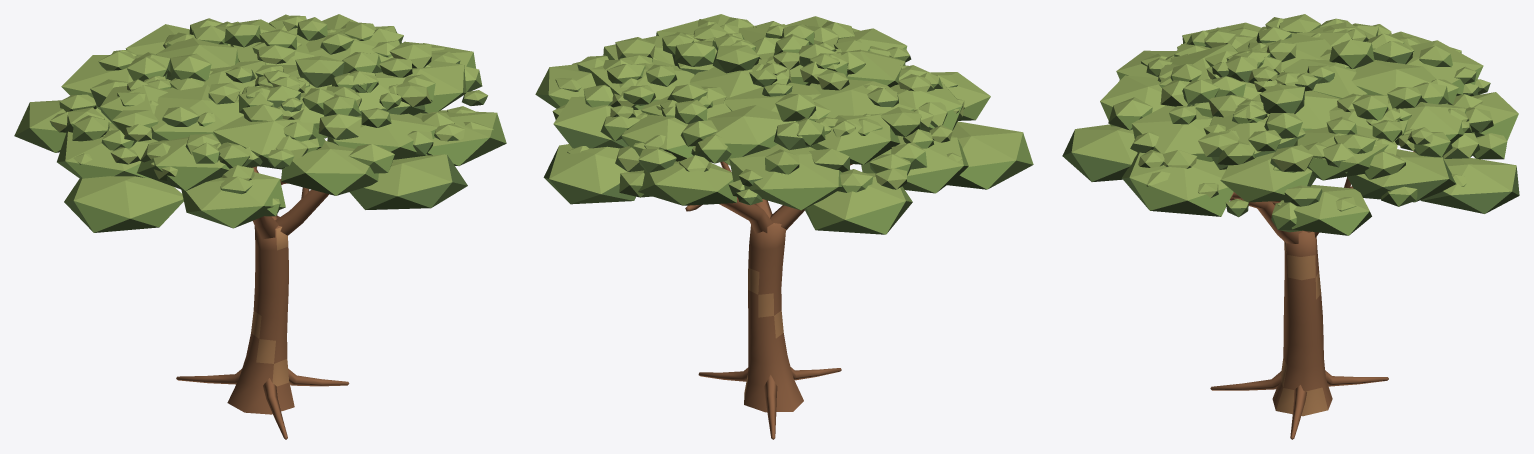
File: a01_acacia_tree_low.glb
The picture shows the model from 3 angles, left to right: view 1: azimuth 30°, elevation 25°; view 2: azimuth 150°, elevation 25°; view 3: azimuth 270°, elevation 25°; orthographic projection.
Visible parts, largest first — view 1: A01_low_Canopy_Left, A01_low_Canopy_Center, A01_low_Canopy_Right, A01_low_Trunk_and_Branches; view 2: A01_low_Canopy_Left, A01_low_Canopy_Center, A01_low_Canopy_Right, A01_low_Trunk_and_Branches; view 3: A01_low_Canopy_Right, A01_low_Canopy_Center, A01_low_Canopy_Left, A01_low_Trunk_and_Branches.
Part boxes in pixels (box(x1,y1,x2,y2)): A01_low_Canopy_Left: box(14, 50, 294, 232); A01_low_Canopy_Center: box(125, 18, 467, 209); A01_low_Canopy_Right: box(230, 14, 506, 165); A01_low_Trunk_and_Branches: box(176, 166, 349, 439); A01_low_Canopy_Left: box(728, 47, 1033, 234); A01_low_Canopy_Center: box(619, 16, 907, 205); A01_low_Canopy_Right: box(535, 14, 807, 204); A01_low_Trunk_and_Branches: box(685, 161, 852, 439); A01_low_Canopy_Right: box(1122, 94, 1519, 235); A01_low_Canopy_Center: box(1062, 43, 1518, 181); A01_low_Canopy_Left: box(1116, 14, 1490, 96); A01_low_Trunk_and_Branches: box(1210, 151, 1414, 439).
Size of the model in its own units: 7.23 by 5.4 by 6.58.
